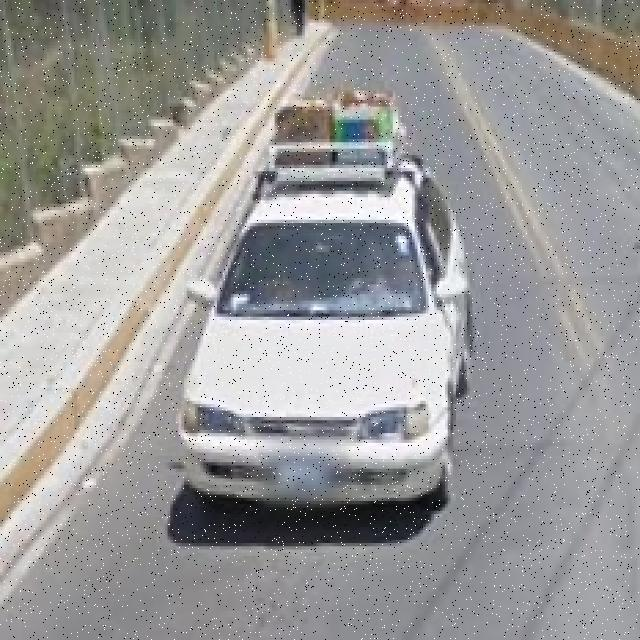cars: (180, 122, 470, 540)
